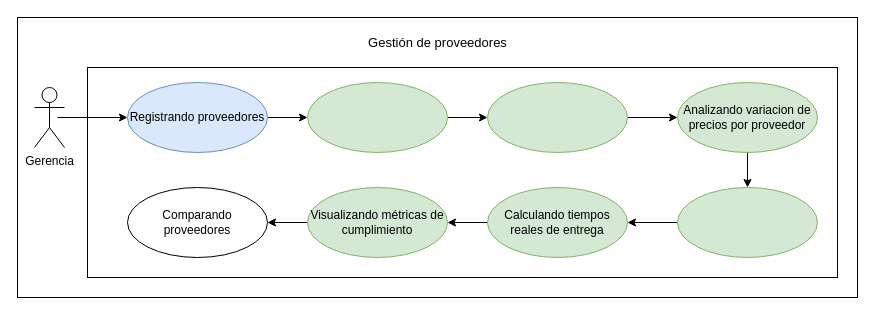
Image size: 875x315. Some labels were removed from this diagram. Here are the shapes that lost their labels. From the top down, the box of each, then its label:
(306, 82, 448, 152): Seleccionando producto
(486, 82, 628, 152): Vinculando precio y tiempo por producto
(676, 186, 818, 258): Consultando historial de precios
